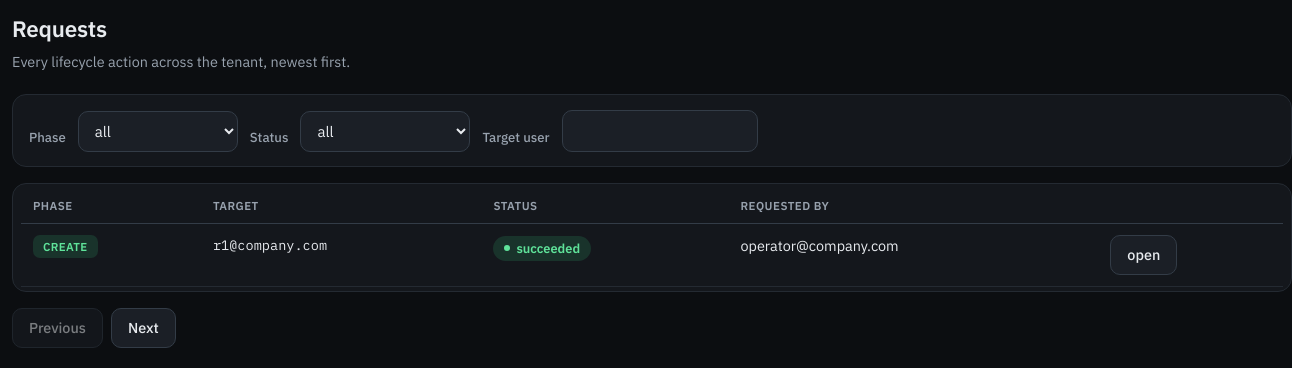
Scenario: AC-4: the list filters and pages server-side › restarts paging when a filter changes, because the old cursor indexes a different ordering
Expected: the text "r1@company.com" is shown, [201,224,481,286]
Click the button "Next": click(143, 328) [111,308,176,348]
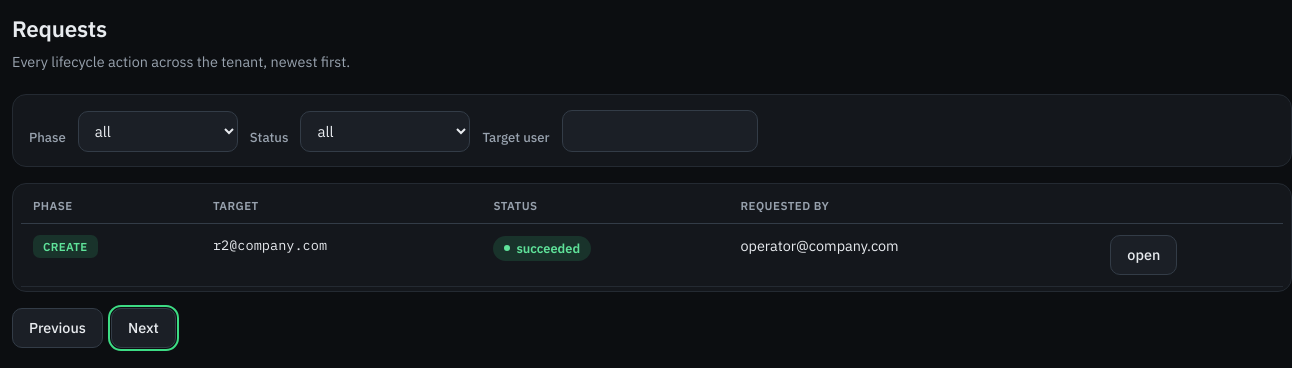
Result: the text "r2@company.com" is shown at [201,224,481,286]
Select "delete" in the dropdown labelled "Phase": (158, 131) [78,111,238,152]
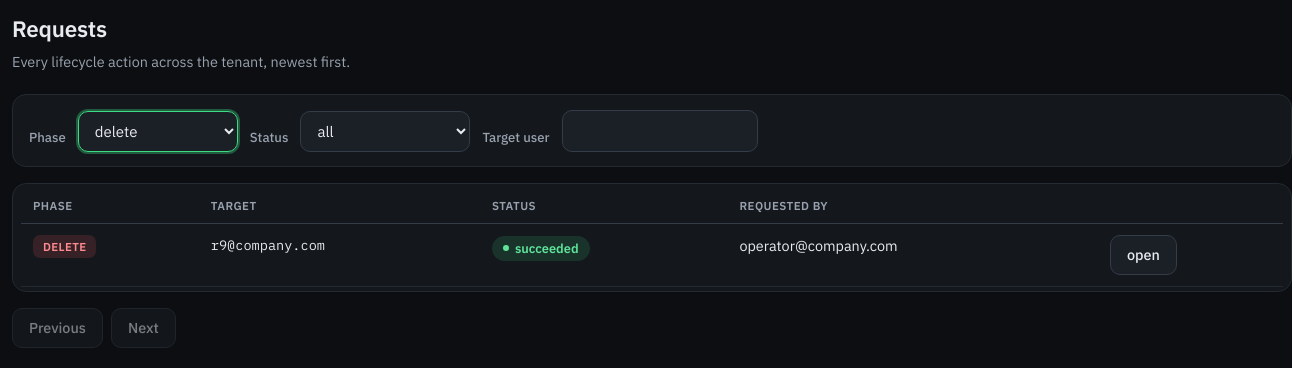
Result: the text "r9@company.com" is shown at [199,224,480,286]
